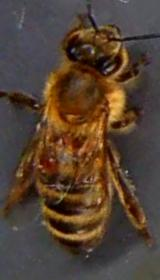varroa_mite: (32, 146, 62, 176)
